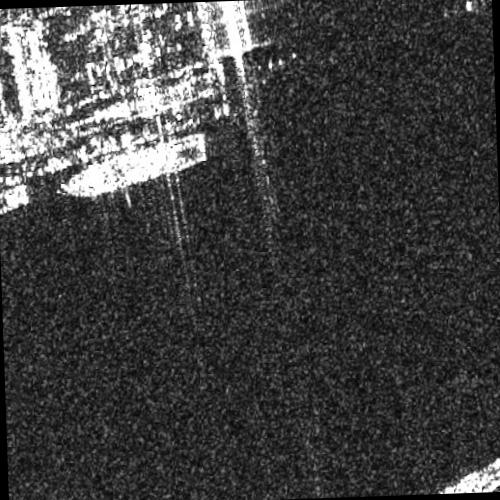ship: (55, 129, 210, 201)
